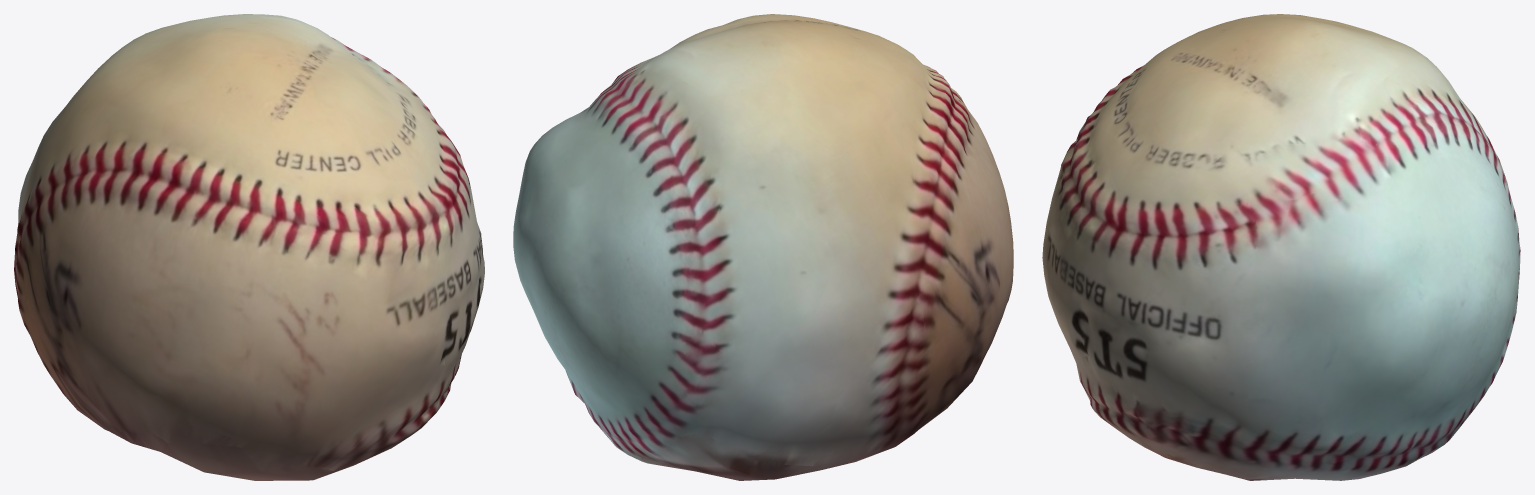
File: baseball_scale.obj
3 renders of one model, left to right at view 1: azimuth 30°, elevation 25°; view 2: azimuth 150°, elevation 25°; view 3: azimuth 270°, elevation 25°, orthographic.
Parts seen in each view (by area): view 1: Mesh; view 2: Mesh; view 3: Mesh.
Boxes of the visible parts, x1=… form: Mesh: x1=14, y1=14, x2=484, y2=480; Mesh: x1=513, y1=14, x2=1013, y2=480; Mesh: x1=1042, y1=14, x2=1520, y2=480.
Size of the model in its own units: 0.073 by 0.0691 by 0.0743.
1 material, 1 textured.
